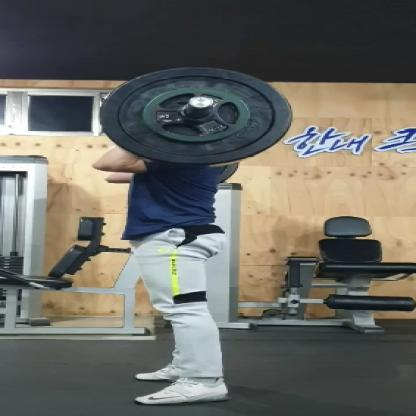Barbell: (92, 62, 314, 174)
